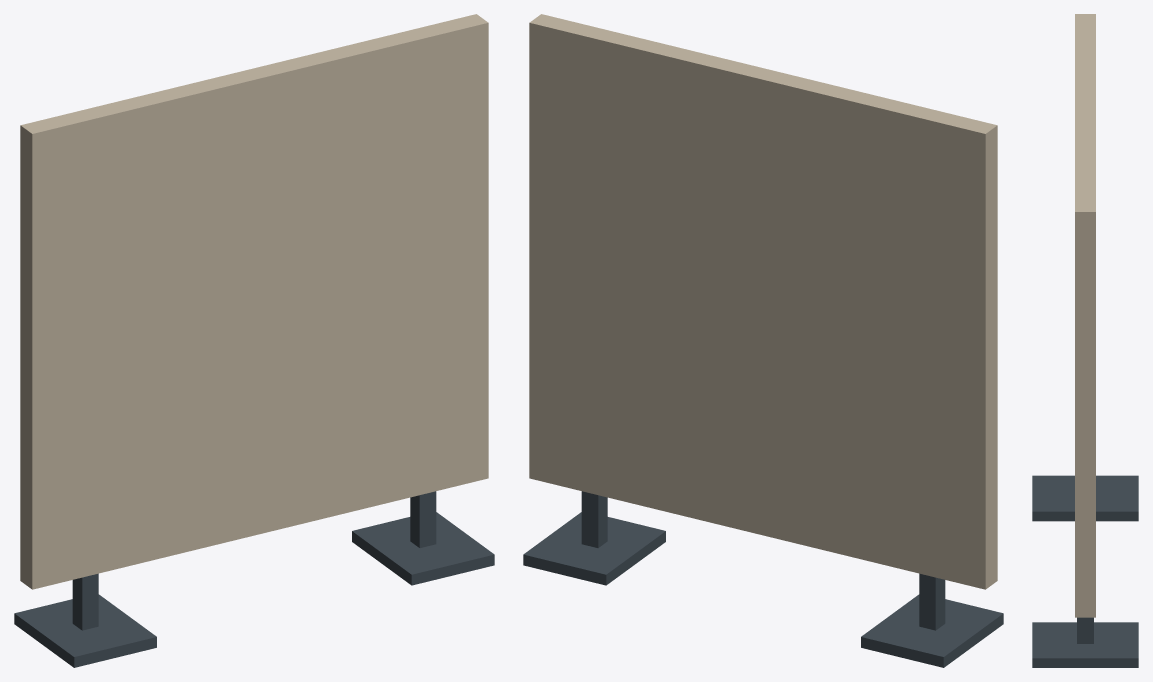
Rendered from separator-2.glb.
3 views of the same model, side by side, from view 1: azimuth 30°, elevation 25°; view 2: azimuth 150°, elevation 25°; view 3: azimuth 270°, elevation 25° (orthographic). The views are drawn at different scales.
Visible parts, largest first — view 1: separator:2:editor; view 2: separator:2:editor; view 3: separator:2:editor.
Part boxes in pixels (<box>): separator:2:editor: <box>14,14,494,667</box>; separator:2:editor: <box>523,14,1003,667</box>; separator:2:editor: <box>1032,14,1138,667</box>.
Bounding box in the file's own units: 1.1 × 1.2 × 0.2499.
